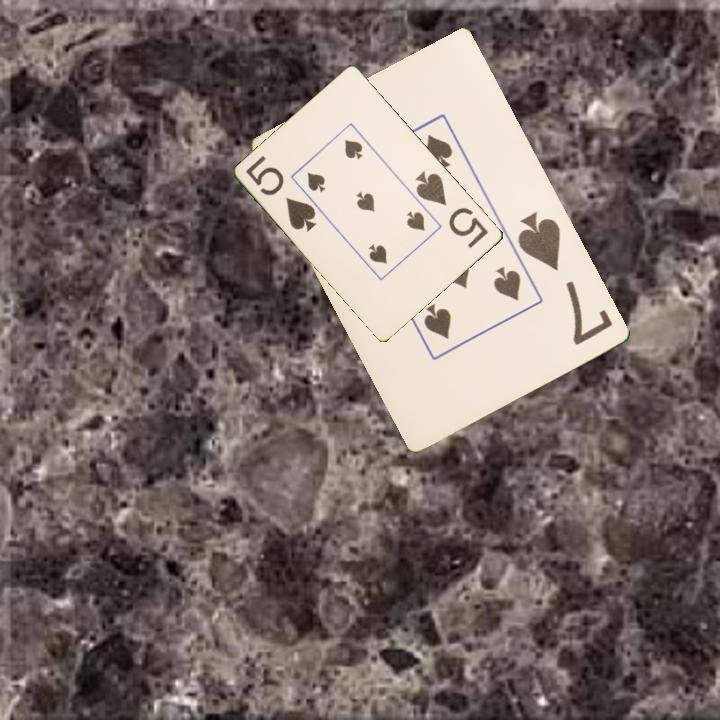5s: (412, 167, 492, 251), (242, 152, 320, 235)
7s: (514, 207, 616, 349)
